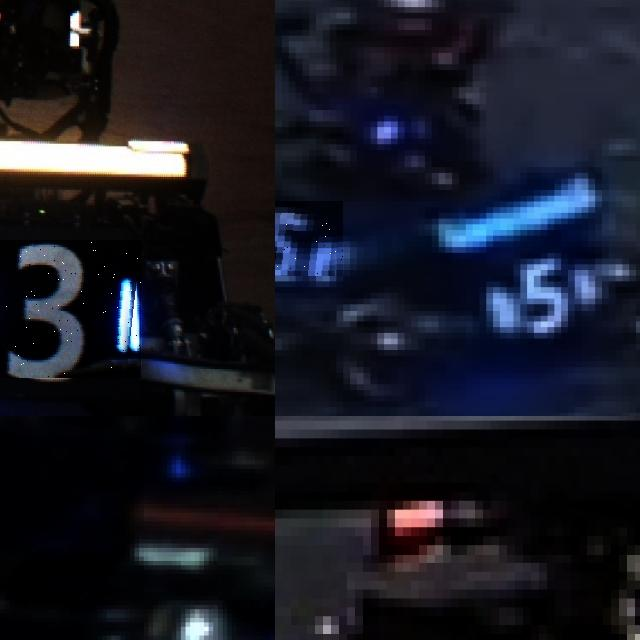B3: (0, 240, 140, 378)
B5: (479, 258, 602, 338), (275, 201, 343, 275)
